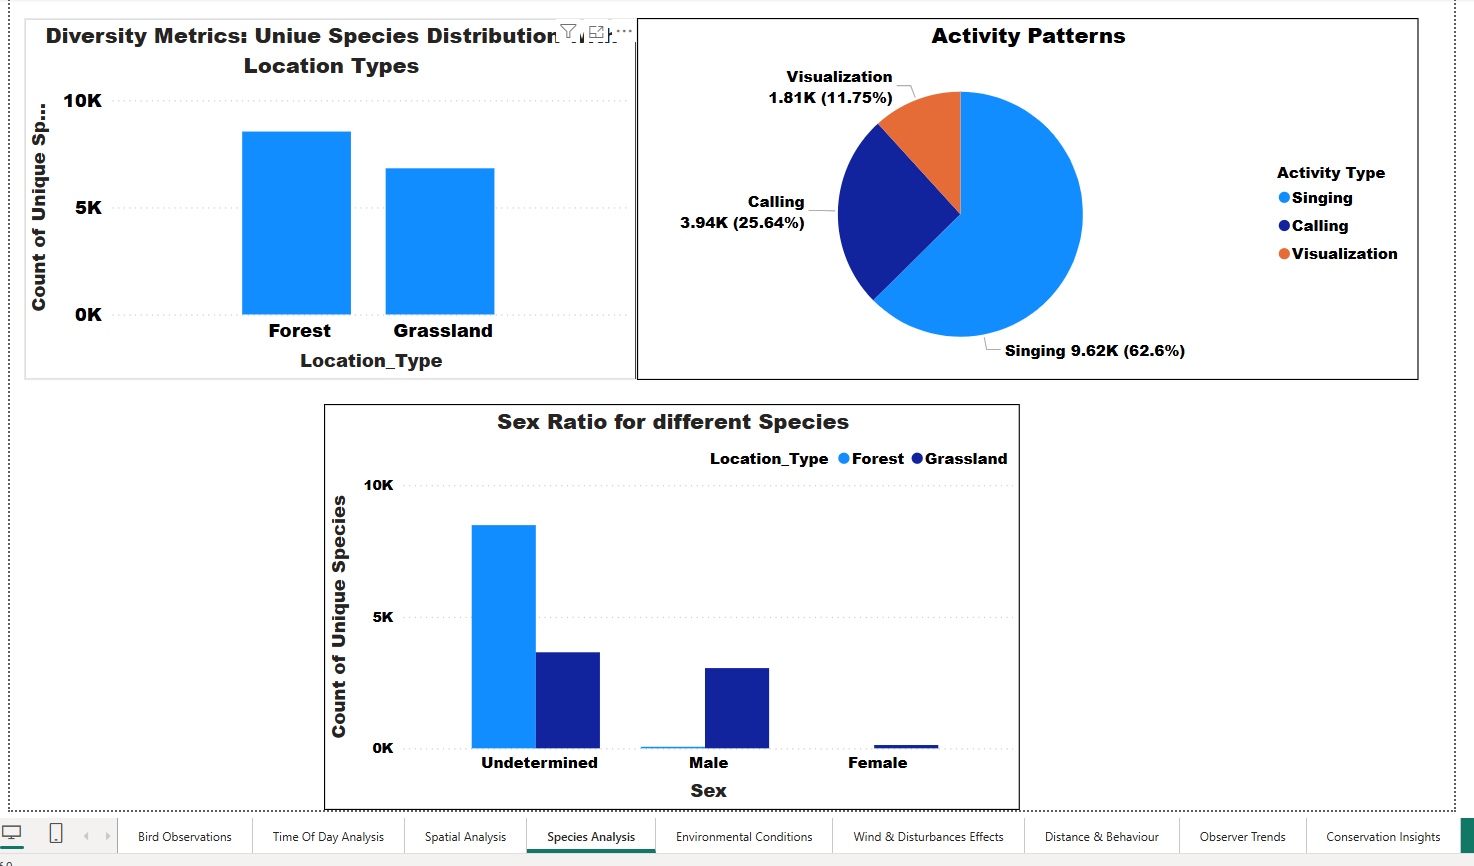

This screenshot's page, from the dashboard's own definition file:
{"tool":"powerbi","page":{"name":"Species Analysis","canvas":[1280,720],"ordinal":3},"visuals":[{"type":"clusteredColumnChart","title":"Diversity Metrics: Uniue Species Distribution with Location Types","fields":{"Category":["All_Bird_Observations.Location_Type"],"Y":["CountNonNull(All_Bird_Observations.Common_Name)"]},"box":[12.5,17.7,543.4,321],"z":0},{"type":"pieChart","title":"Activity Patterns","fields":{"Category":["All_Bird_Observations.ID_Method"],"Y":["CountNonNull(All_Bird_Observations.Observation_ID)"]},"box":[556,17.7,692.5,321],"z":1000},{"type":"clusteredColumnChart","title":"Sex Ratio for different Species","fields":{"Category":["All_Bird_Observations.Sex"],"Series":["All_Bird_Observations.Location_Type"],"Y":["CountNonNull(All_Bird_Observations.Common_Name)"]},"box":[278.3,359.8,617.3,359.8],"z":2000}]}

Visuals, with their boxes on the page's 1280x720 design canvas (x1, y1, x2, y2). These are canvas units, not pixel positions in the 1474x866 screenshot, which may show the page scaled, cropped or inside an application window:
"Diversity Metrics: Uniue Species Distribution with Location Types" clusteredColumnChart: 12/18/556/339
"Activity Patterns" pieChart: 556/18/1248/339
"Sex Ratio for different Species" clusteredColumnChart: 278/360/896/720
